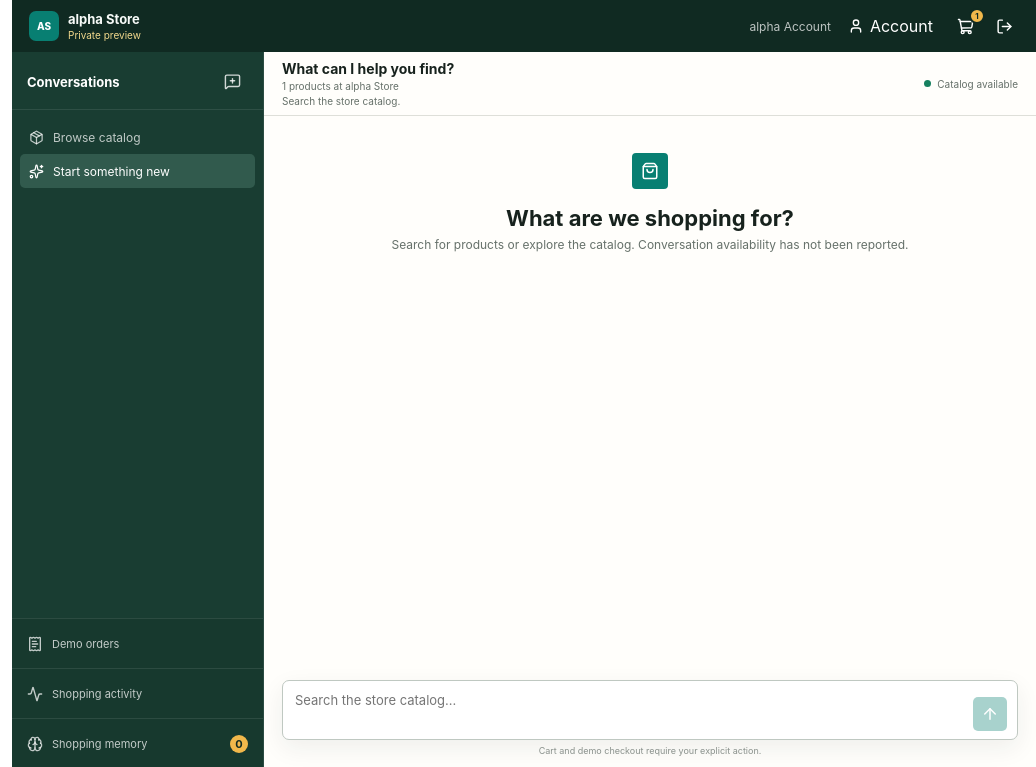
Scenario: real store route and transport › opens the verified preview chat without sending and leaves catalog browsing available
expect the heading "What are we shopping for?" is shown: met, box [506,205,794,231]
expect the text box named "Shopping request" is empty: met, box [291,689,965,731]
What coordinates should you click on to do the following:
click the button "Browse catalog"
I would click on:
 (138, 137)
Its box is [20,120,255,154].
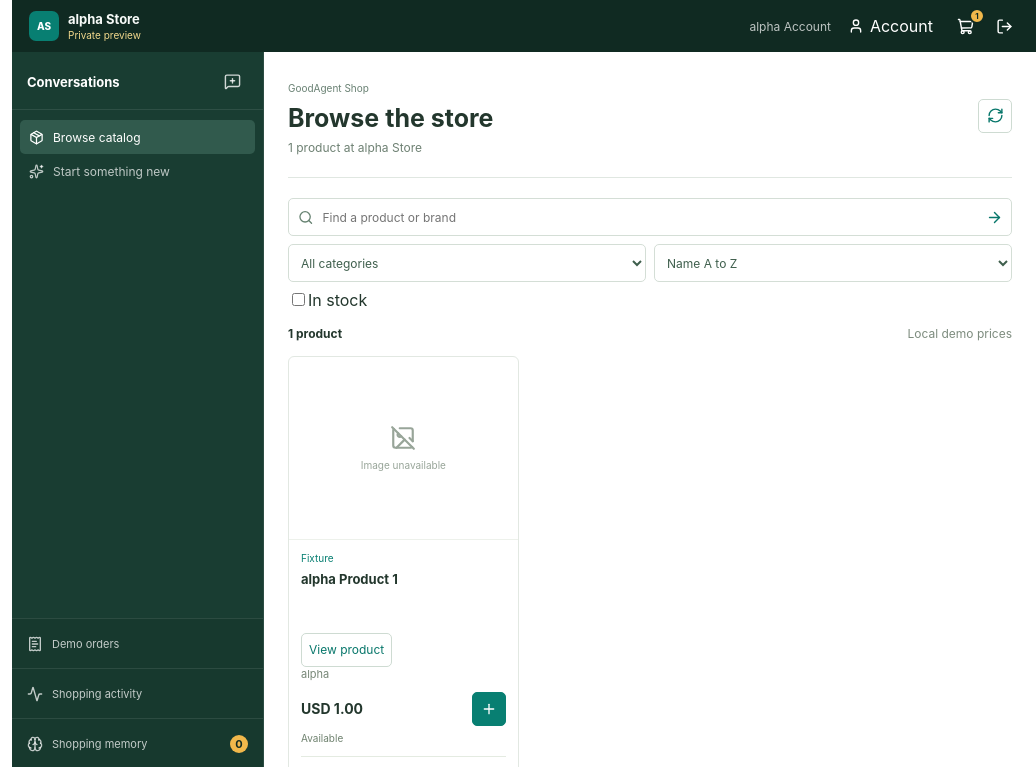
expect the heading "alpha Product 1" is shown: met, box [301,571,398,587]
